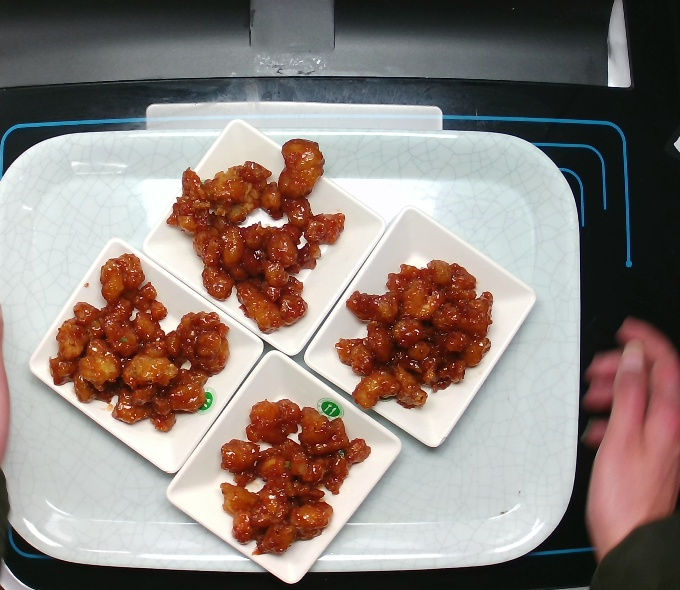wcq-TangCuPaiGu: (32, 245, 231, 448), (159, 130, 358, 333), (331, 242, 511, 428), (215, 387, 371, 566)
